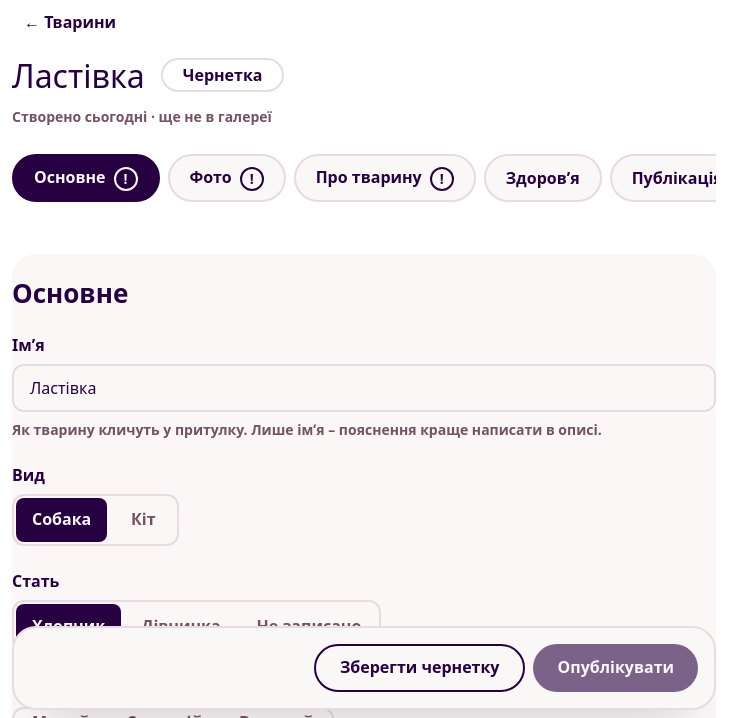
Test case: the missing-items panel › pressing «Опублікувати» with something missing opens «Публікація» and focuses its heading
Click the button "Опублікувати". click: (616, 668)
box: [534, 644, 698, 692]
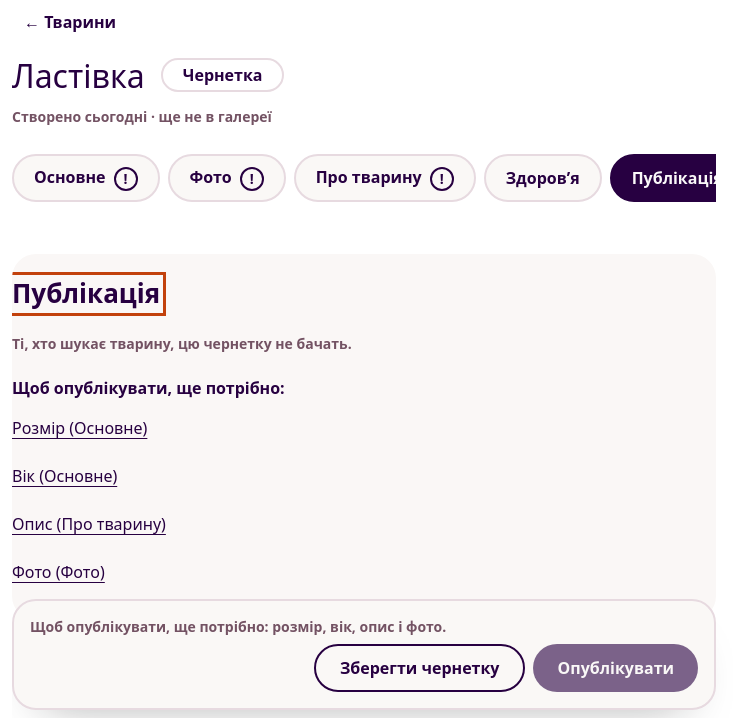
Expected: the tab "Публікація" is shown, [610, 154, 716, 202]
Expected: the text "Щоб опублікувати, ще потрібно: розмір, вік, опис і фото." is shown, [30, 616, 446, 635]
